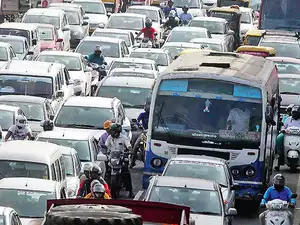helmet: (272, 174, 287, 190), (93, 183, 105, 198), (110, 123, 122, 138), (14, 116, 28, 127), (291, 106, 300, 120), (91, 166, 102, 177), (43, 119, 53, 131), (94, 44, 103, 57), (143, 101, 152, 111), (181, 4, 190, 13), (145, 18, 153, 28), (168, 12, 176, 20), (104, 121, 111, 130)
